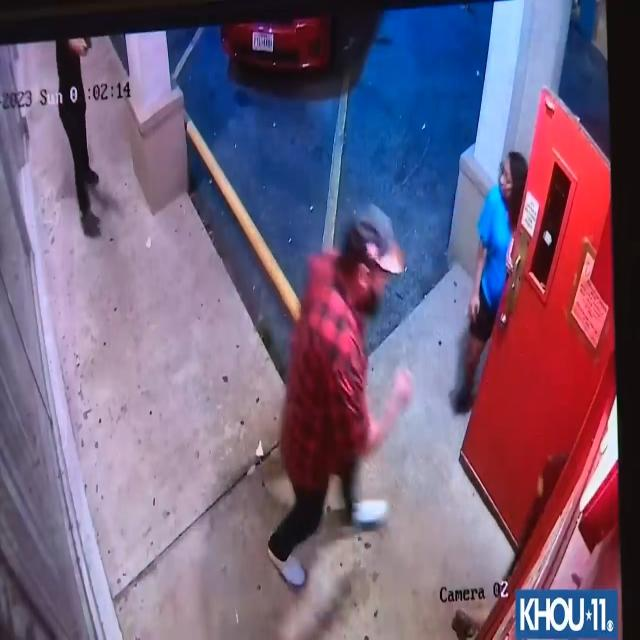Gun_Holder: (66, 34, 100, 60)
Person: (271, 205, 400, 590), (452, 137, 533, 412), (48, 38, 112, 234)
